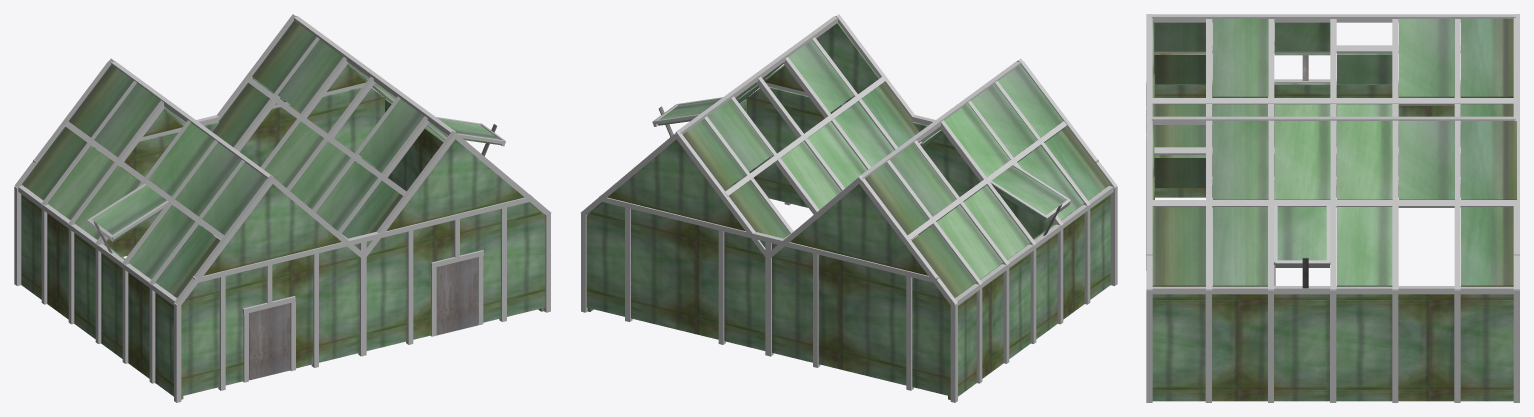
The model's file is Serre.FBX.
The picture shows the model from 3 angles, left to right: view 1: azimuth 30°, elevation 25°; view 2: azimuth 150°, elevation 25°; view 3: azimuth 270°, elevation 25°; orthographic projection. The views are drawn at different scales.
Visible parts, largest first — view 1: Box05; view 2: Box05; view 3: Box05.
Part boxes in pixels (<box>): Box05: <box>14,14,551,402</box>; Box05: <box>580,14,1117,402</box>; Box05: <box>1146,14,1519,402</box>.
Bounding box in the file's own units: 429 × 223 × 301.
